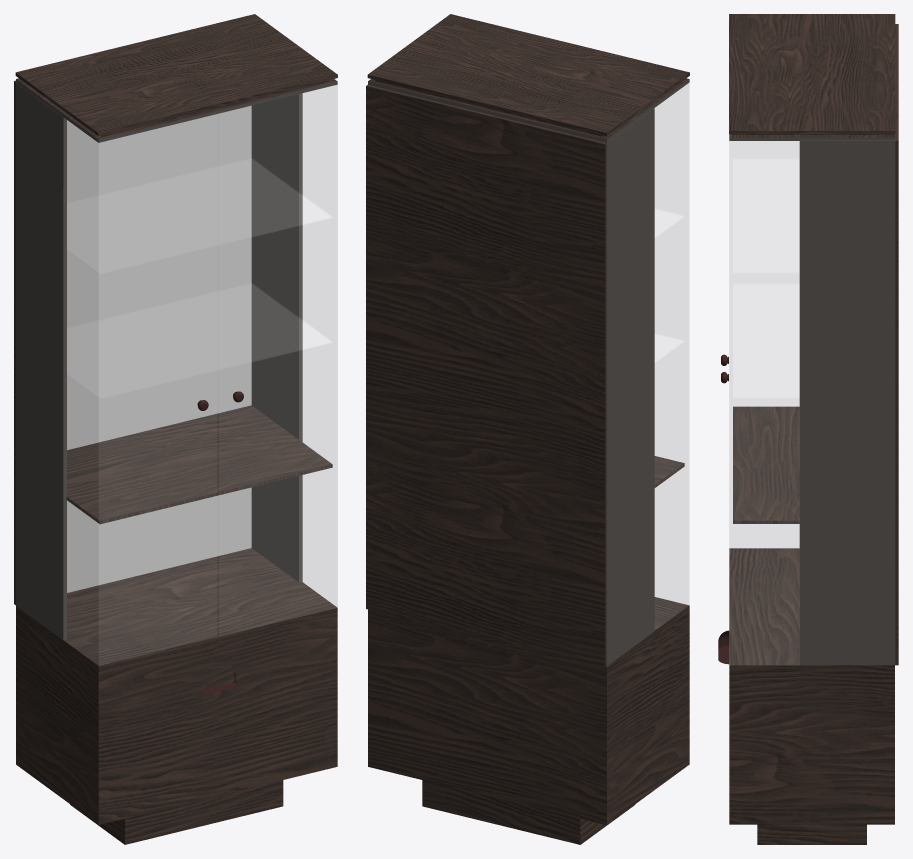
File: CRISTALEIRA2.glb
3 renders of one model, left to right at view 1: azimuth 30°, elevation 25°; view 2: azimuth 150°, elevation 25°; view 3: azimuth 270°, elevation 25°, orthographic.
Visible parts, largest first — view 1: Plane, Plane.014, Plane.012, Plane.015, Plane.027, Plane.010, Plane.004, Plane.003, Plane.009; view 2: Plane.009, Plane, Plane.027, Plane.010, Plane.014, Plane.003; view 3: Plane.004, Plane, Plane.015, Plane.010, Plane.009, Plane.003, Plane.001.
Boxes of the visible parts, bbox=[...] form: Plane: bbox=[14, 80, 337, 844]; Plane.014: bbox=[64, 115, 216, 664]; Plane.012: bbox=[67, 105, 251, 592]; Plane.015: bbox=[219, 85, 337, 635]; Plane.027: bbox=[15, 83, 66, 640]; Plane.010: bbox=[15, 14, 337, 139]; Plane.004: bbox=[251, 93, 302, 582]; Plane.003: bbox=[16, 79, 337, 142]; Plane.009: bbox=[14, 81, 15, 601]; Plane.009: bbox=[366, 85, 606, 667]; Plane: bbox=[366, 85, 689, 844]; Plane.027: bbox=[603, 108, 654, 665]; Plane.010: bbox=[367, 14, 689, 139]; Plane.014: bbox=[655, 83, 689, 629]; Plane.003: bbox=[368, 79, 689, 142]; Plane.004: bbox=[799, 139, 895, 665]; Plane: bbox=[729, 24, 898, 844]; Plane.015: bbox=[729, 141, 798, 664]; Plane.010: bbox=[729, 14, 895, 137]; Plane.009: bbox=[895, 24, 898, 664]; Plane.003: bbox=[729, 137, 894, 140]; Plane.001: bbox=[718, 630, 729, 664].
Size of the model in its own units: 0.7564 by 2.21 by 0.493.
6 materials, 1 textured.
